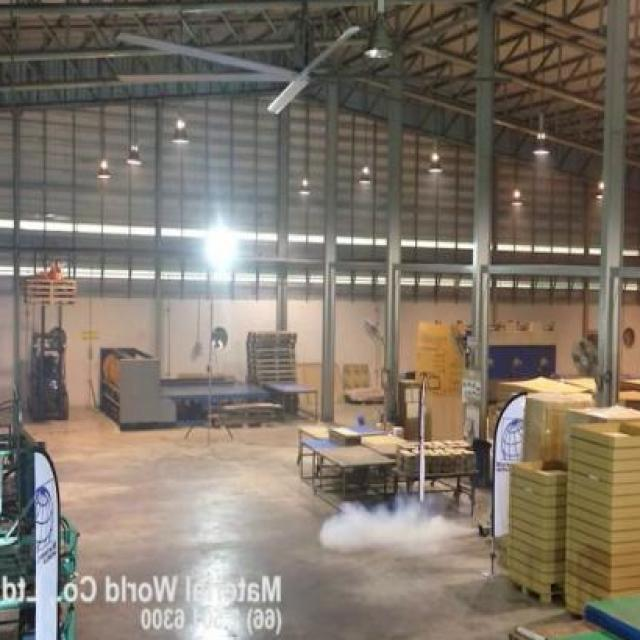fire: (314, 498, 460, 551)
